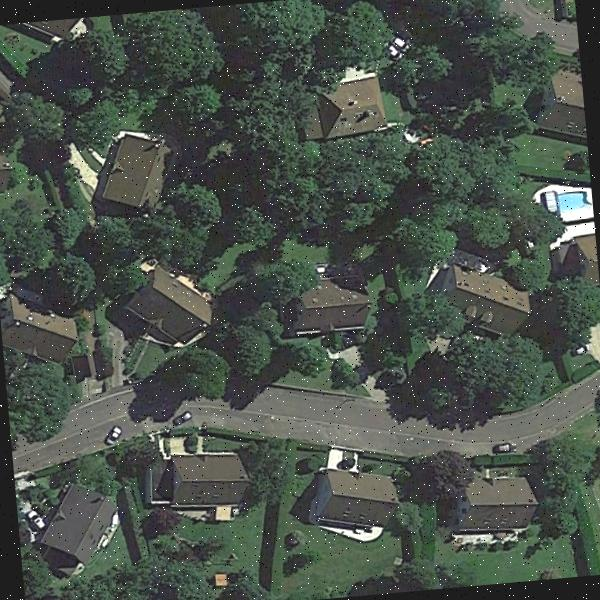Buildings: (46, 490, 121, 562), (102, 132, 172, 209), (448, 272, 522, 338), (171, 455, 252, 512), (317, 479, 399, 533), (136, 278, 204, 343), (456, 476, 543, 526), (288, 285, 364, 336), (1, 308, 77, 358), (538, 74, 584, 140), (321, 90, 387, 130), (0, 150, 7, 196)
